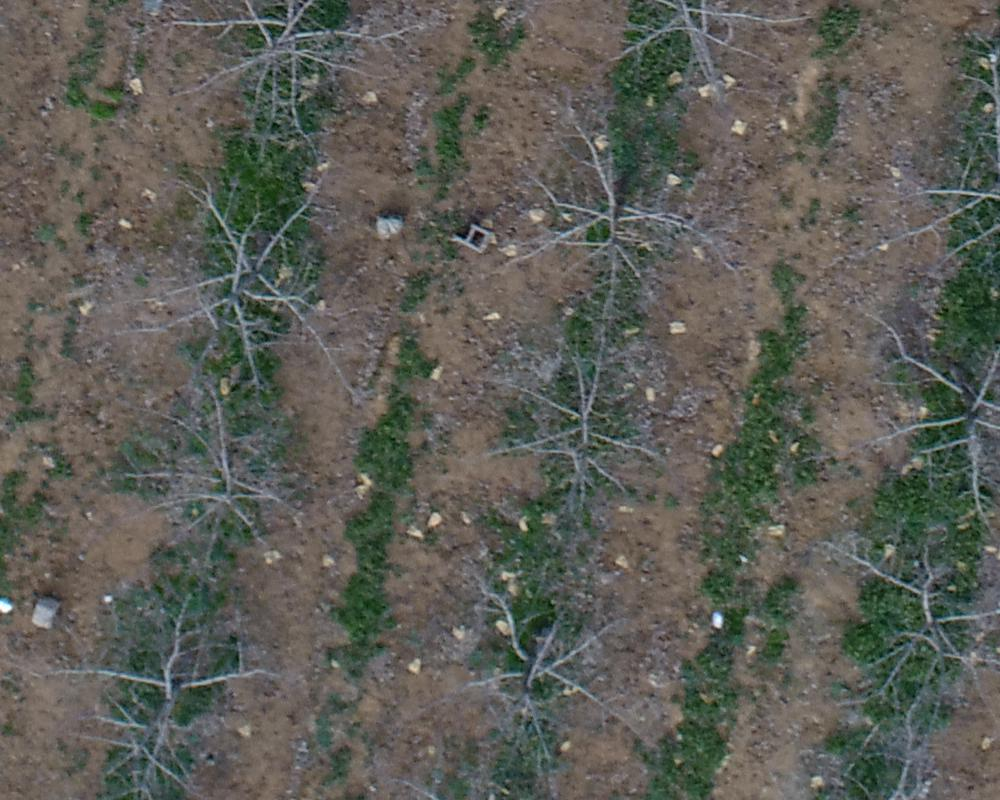apple: (461, 105, 770, 309), (120, 157, 361, 392), (35, 593, 294, 790), (455, 313, 675, 519), (430, 553, 648, 732), (801, 529, 990, 734), (139, 10, 429, 138), (130, 390, 332, 573), (850, 310, 990, 530), (546, 10, 836, 102)
